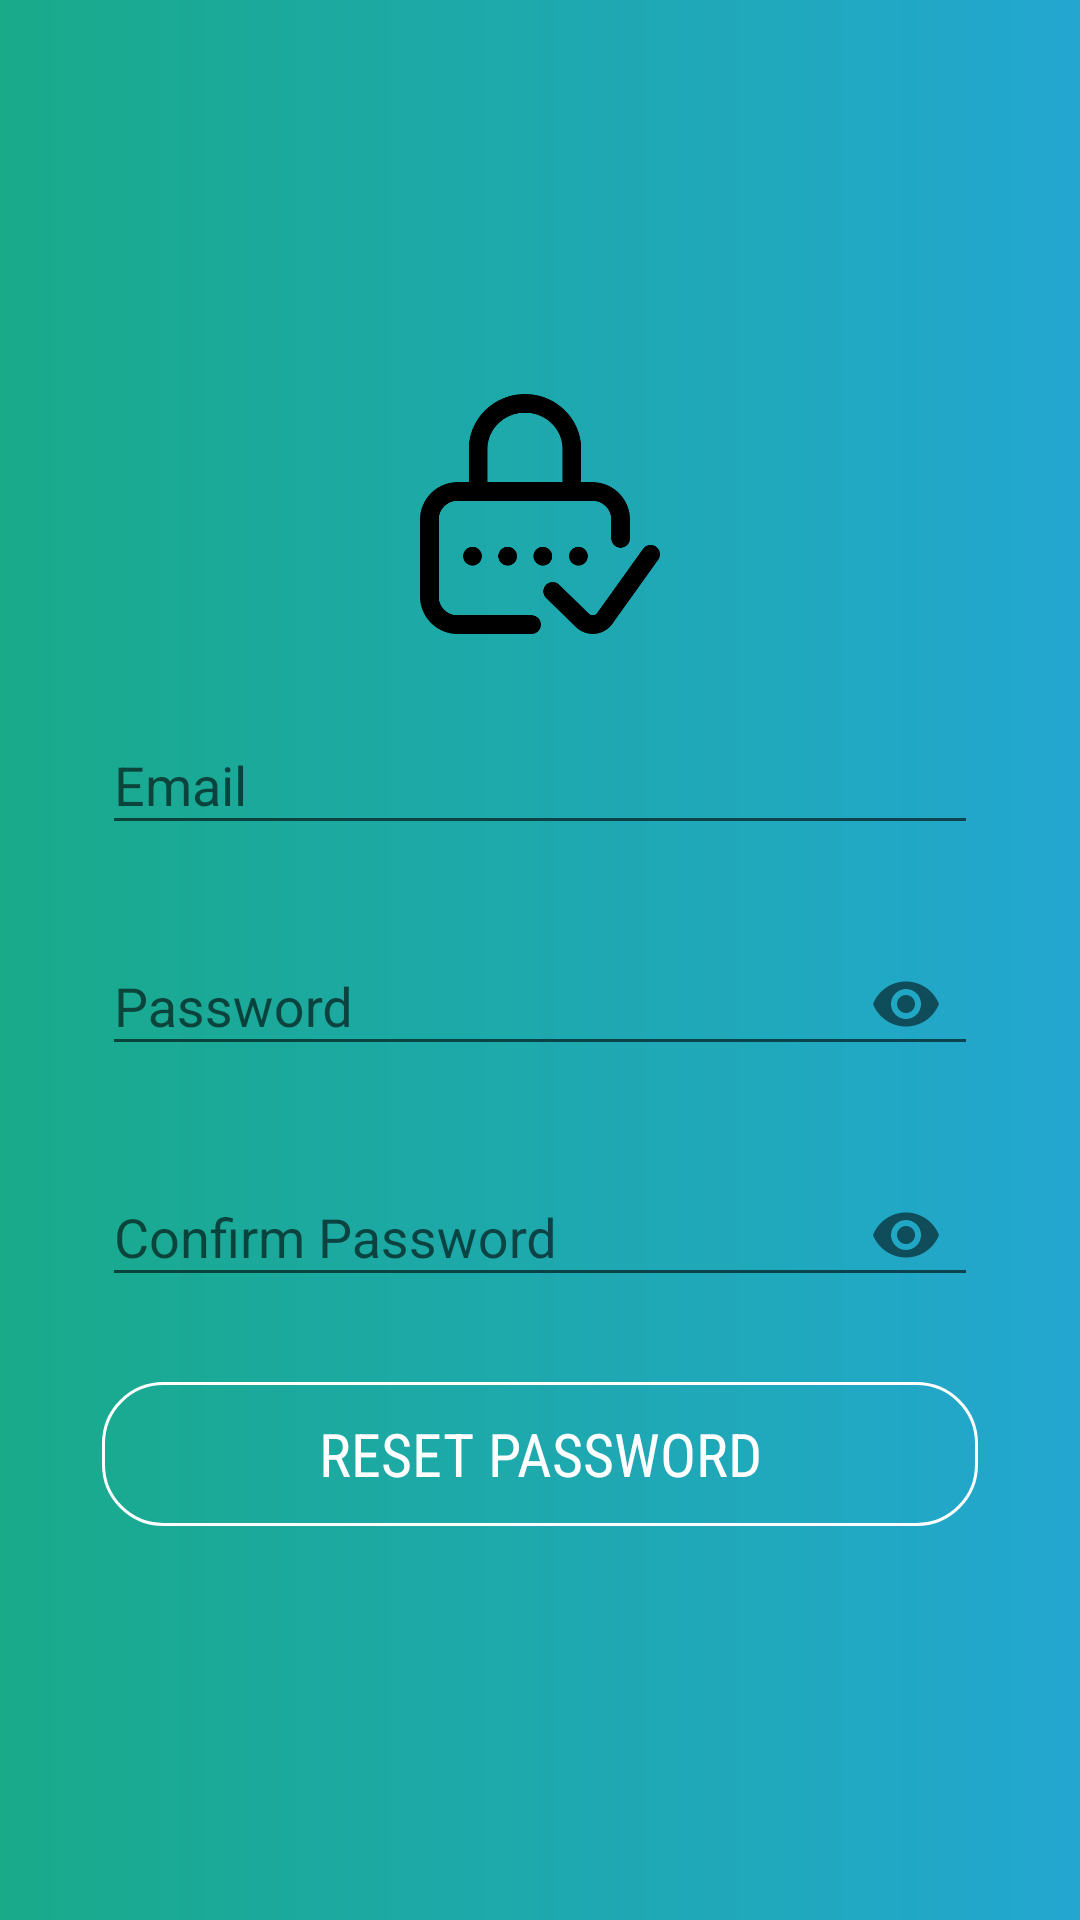

Locate icon controls on the screen. Image size 1080×1920, boxes as (x1, y1, x2, y2).
forget: (420, 394, 720, 634)
